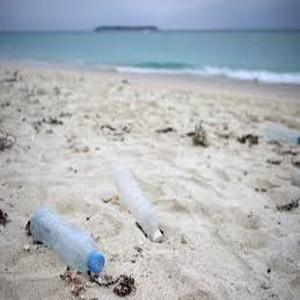Plastic: (28, 201, 107, 274), (110, 162, 164, 243)
